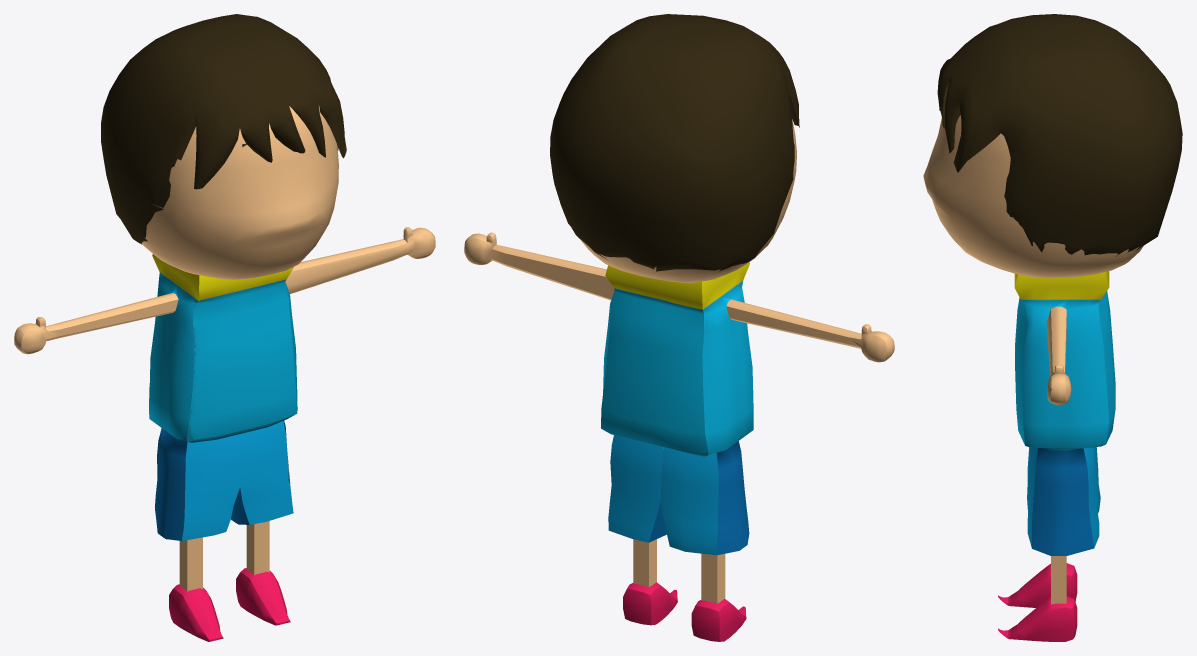
File: boyPlayer.fbx
3 renders of one model, left to right at view 1: azimuth 30°, elevation 25°; view 2: azimuth 150°, elevation 25°; view 3: azimuth 270°, elevation 25°, orthographic. The views are drawn at different scales.
Visible parts, largest first — view 1: polySurface27; view 2: polySurface27; view 3: polySurface27.
Part boxes in pixels (x1,y1,x2,y2): polySurface27: [14, 14, 435, 641]; polySurface27: [464, 14, 894, 641]; polySurface27: [923, 14, 1182, 641].
Bounding box in the file's own units: 4.67 × 6.2 × 2.48.
